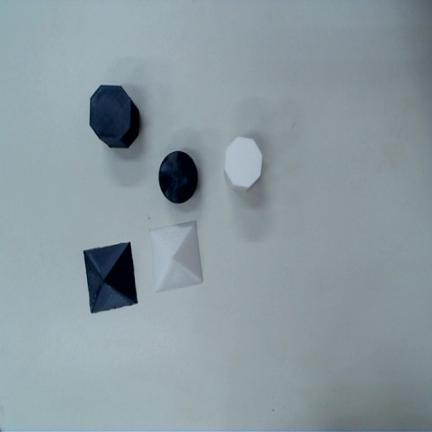Esfera: (159, 150, 198, 203)
Piramide: (83, 242, 139, 314), (150, 220, 202, 292)
Prisma_hexagonal: (90, 85, 139, 148), (224, 137, 263, 191)
